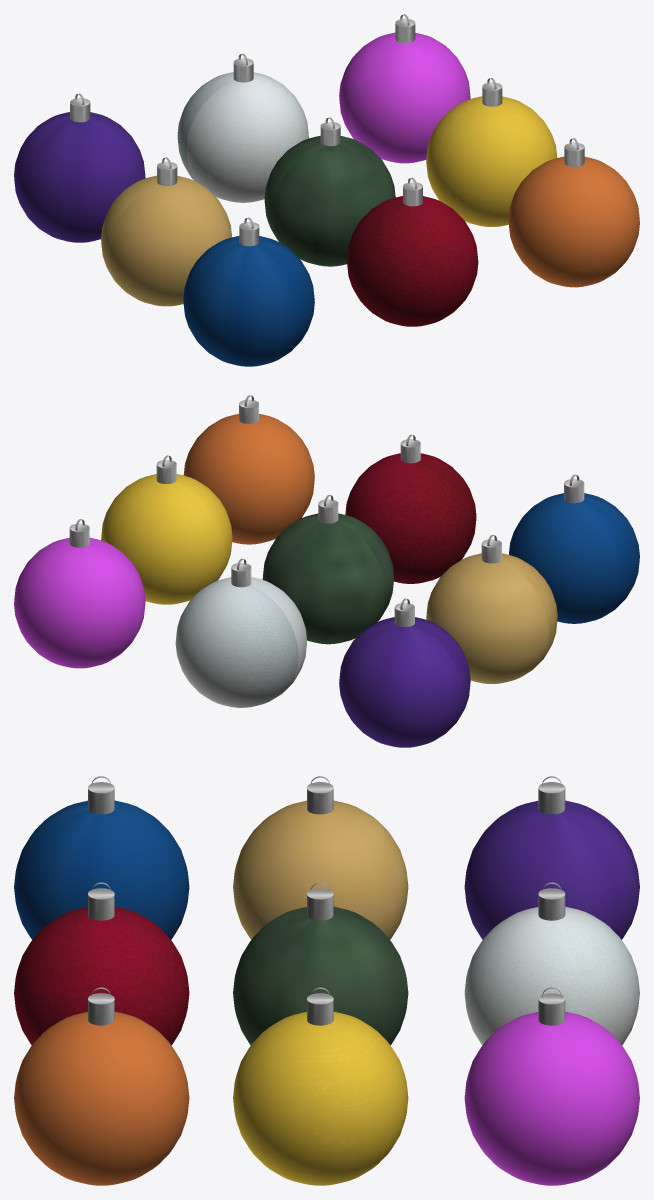
Rendered from Christmas Balls.fbx.
3 renders of one model, top to bottom at view 1: azimuth 30°, elevation 25°; view 2: azimuth 150°, elevation 25°; view 3: azimuth 270°, elevation 25°, orthographic. The views are drawn at different scales.
Visible parts, largest first — view 1: Sphere.002, Sphere.008, Sphere.005, Sphere.001, Sphere.004, Sphere.007, Sphere, Sphere.003, Sphere.006, Cylinder.005, Cylinder.002, Cylinder.007 (+5 smaller); view 2: Sphere.007, Sphere.004, Sphere.001, Sphere, Sphere.003, Sphere.006, Sphere.002, Sphere.005, Sphere.008, Cylinder.004, Cylinder.006, Cylinder.001 (+5 smaller); view 3: Sphere.008, Sphere.006, Sphere.007, Sphere, Sphere.002, Sphere.001, Sphere.005, Sphere.003, Sphere.004, Cylinder.005, Cylinder.002, Cylinder.008 (+6 smaller).
Boxes of the visible parts, left/top/right/bottom form: Sphere.002: left=183, top=236, right=314, bottom=366; Sphere.008: left=508, top=156, right=639, bottom=287; Sphere.005: left=346, top=196, right=478, bottom=326; Sphere.001: left=14, top=112, right=145, bottom=242; Sphere.004: left=177, top=72, right=308, bottom=202; Sphere.007: left=339, top=32, right=470, bottom=163; Sphere: left=101, top=175, right=231, bottom=306; Sphere.003: left=264, top=135, right=395, bottom=266; Sphere.006: left=426, top=96, right=557, bottom=226; Cylinder.005: left=233, top=53, right=253, bottom=82; Cylinder.002: left=70, top=93, right=90, bottom=122; Cylinder.007: left=482, top=78, right=502, bottom=106; Sphere.007: left=14, top=537, right=145, bottom=668; Sphere.004: left=175, top=577, right=307, bottom=707; Sphere.001: left=339, top=617, right=470, bottom=747; Sphere: left=426, top=553, right=557, bottom=683; Sphere.003: left=262, top=513, right=394, bottom=644; Sphere.006: left=101, top=474, right=232, bottom=604; Sphere.002: left=509, top=493, right=639, bottom=623; Sphere.005: left=345, top=453, right=476, bottom=583; Sphere.008: left=183, top=414, right=314, bottom=544; Cylinder.004: left=318, top=495, right=338, bottom=523; Cylinder.006: left=400, top=434, right=420, bottom=463; Cylinder.001: left=481, top=534, right=501, bottom=563; Sphere.008: left=14, top=1011, right=189, bottom=1185; Sphere.006: left=233, top=1011, right=408, bottom=1185; Sphere.007: left=464, top=1011, right=639, bottom=1185; Sphere: left=233, top=800, right=408, bottom=939; Sphere.002: left=14, top=800, right=189, bottom=939; Sphere.001: left=464, top=800, right=639, bottom=939; Sphere.005: left=14, top=906, right=189, bottom=1045; Sphere.003: left=233, top=906, right=408, bottom=1045; Sphere.004: left=464, top=906, right=639, bottom=1045; Cylinder.005: left=538, top=882, right=565, bottom=920; Cylinder.002: left=538, top=776, right=565, bottom=814; Cylinder.008: left=538, top=987, right=565, bottom=1025.
Size of the model in its own units: 769 by 238 by 714.
10 materials, 10 textured.
